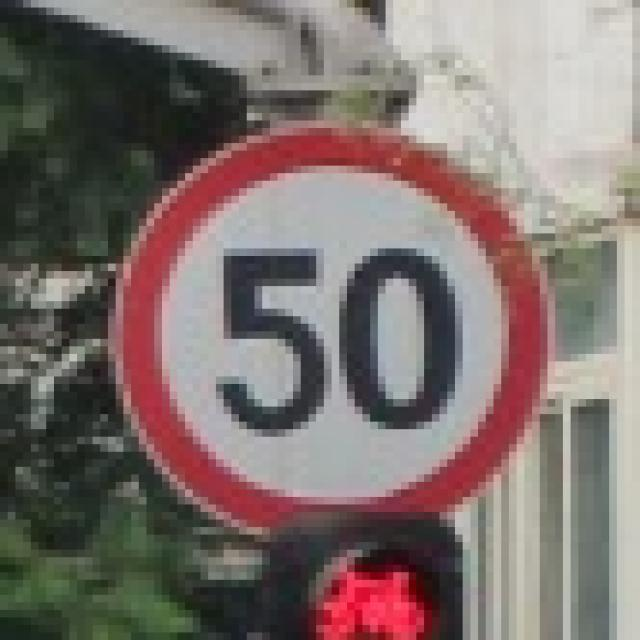speed limit 50: (108, 130, 549, 538)
